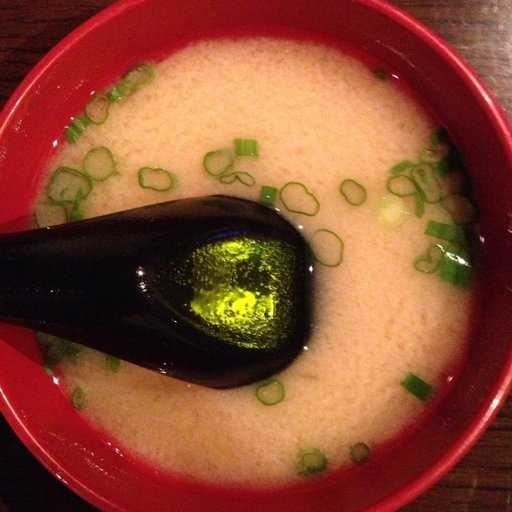soup: (14, 10, 469, 503)
